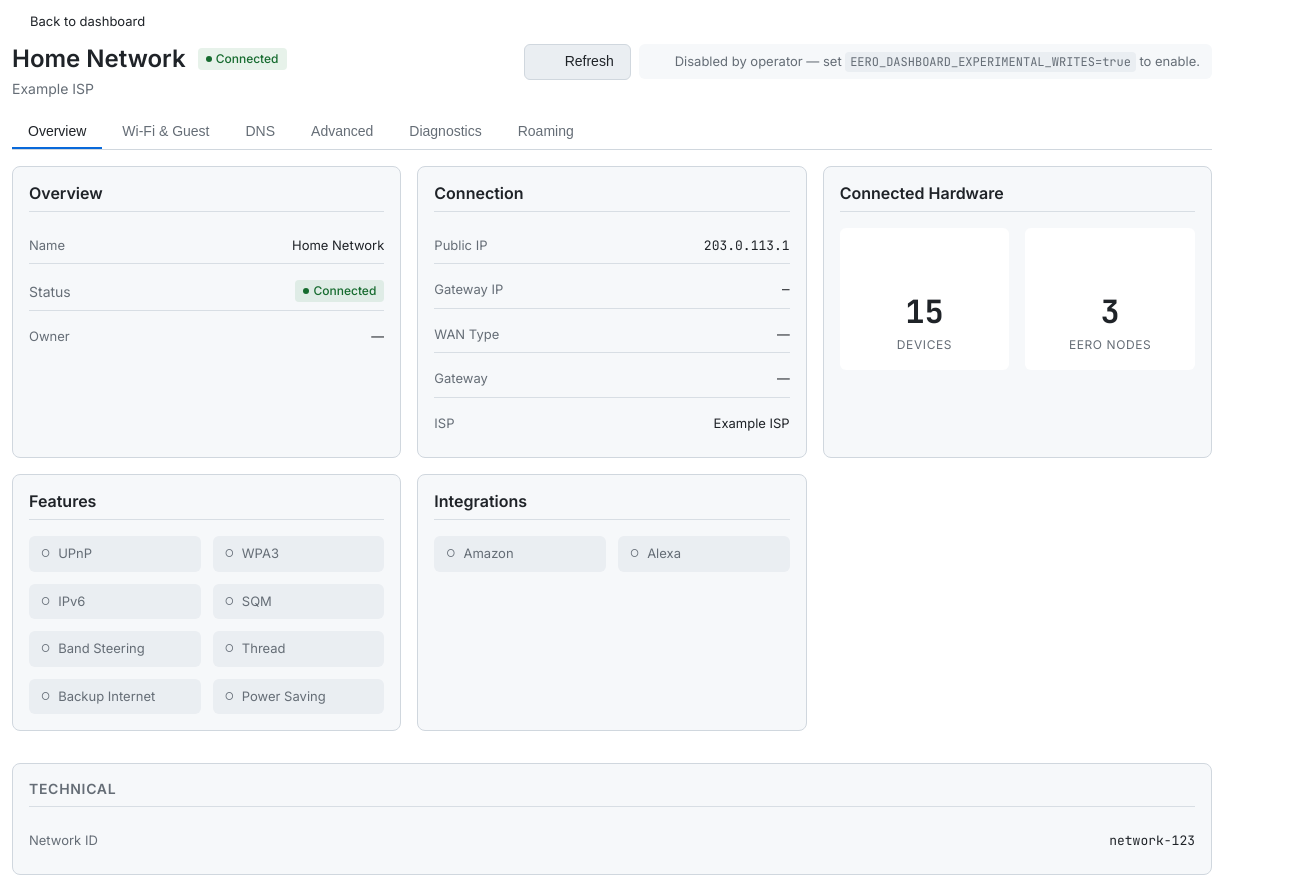
Test: network detail page - diagnostics WAN throughput › renders the card when connection_mode is null
Expected: the heading "Home Network" is shown, [12,44,186,74]
Click the tab "Diagnostics": {"x": 446, "y": 132} [393,114,498,148]
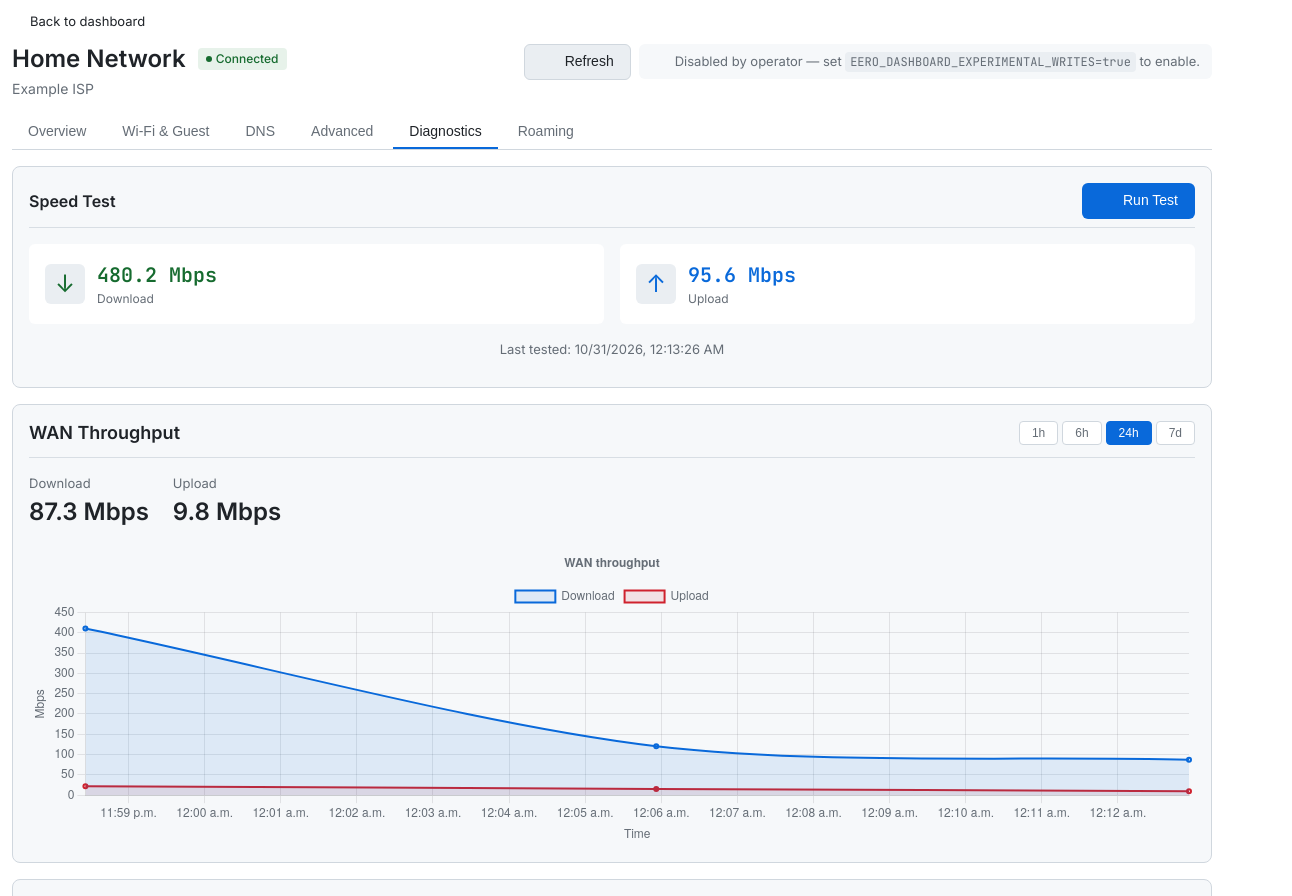
Result: the heading "WAN Throughput" is shown at [29,422,180,444]
